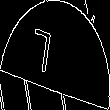L_S: (42, 26, 68, 84)
